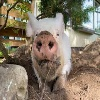heo: (24, 8, 72, 88)
